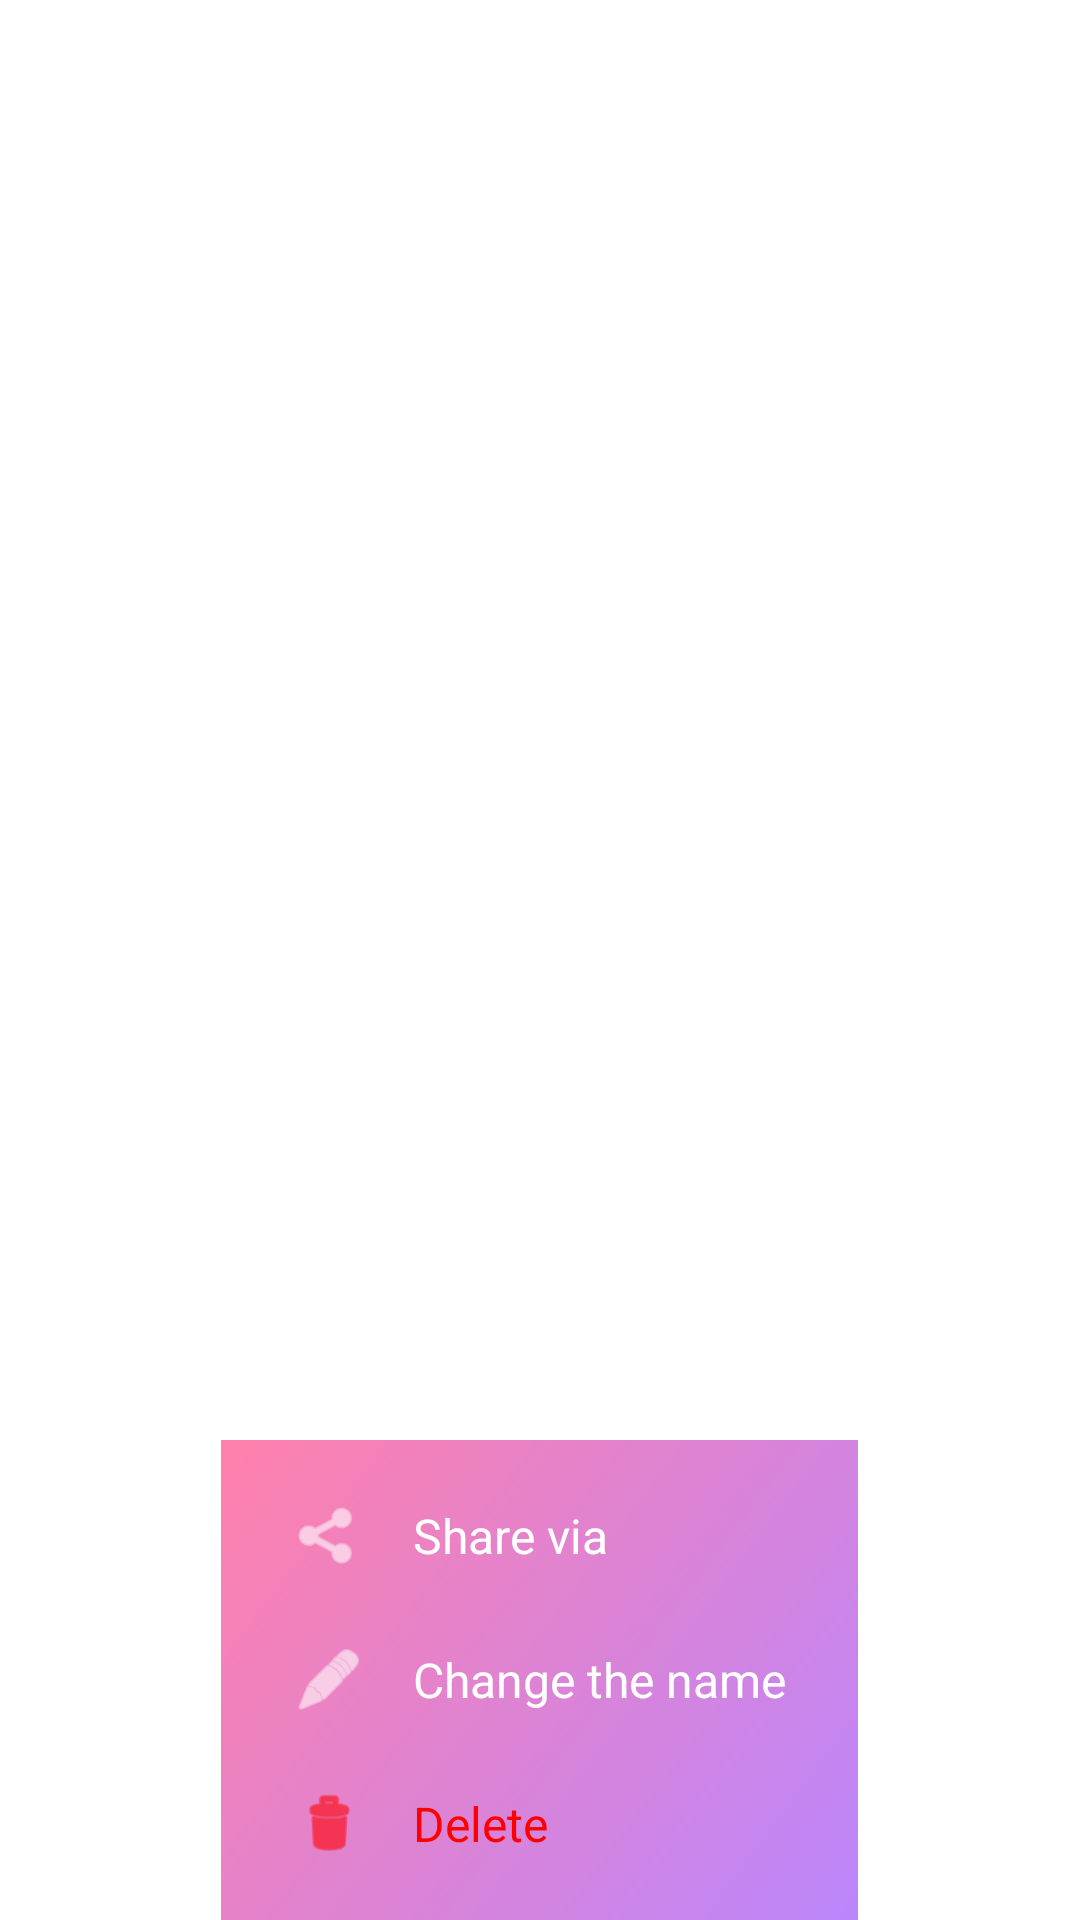

Icons on this 1080 × 1920 Android screen, each with the point to tap as (x=x, y=y):
edit: (x=328, y=1679)
